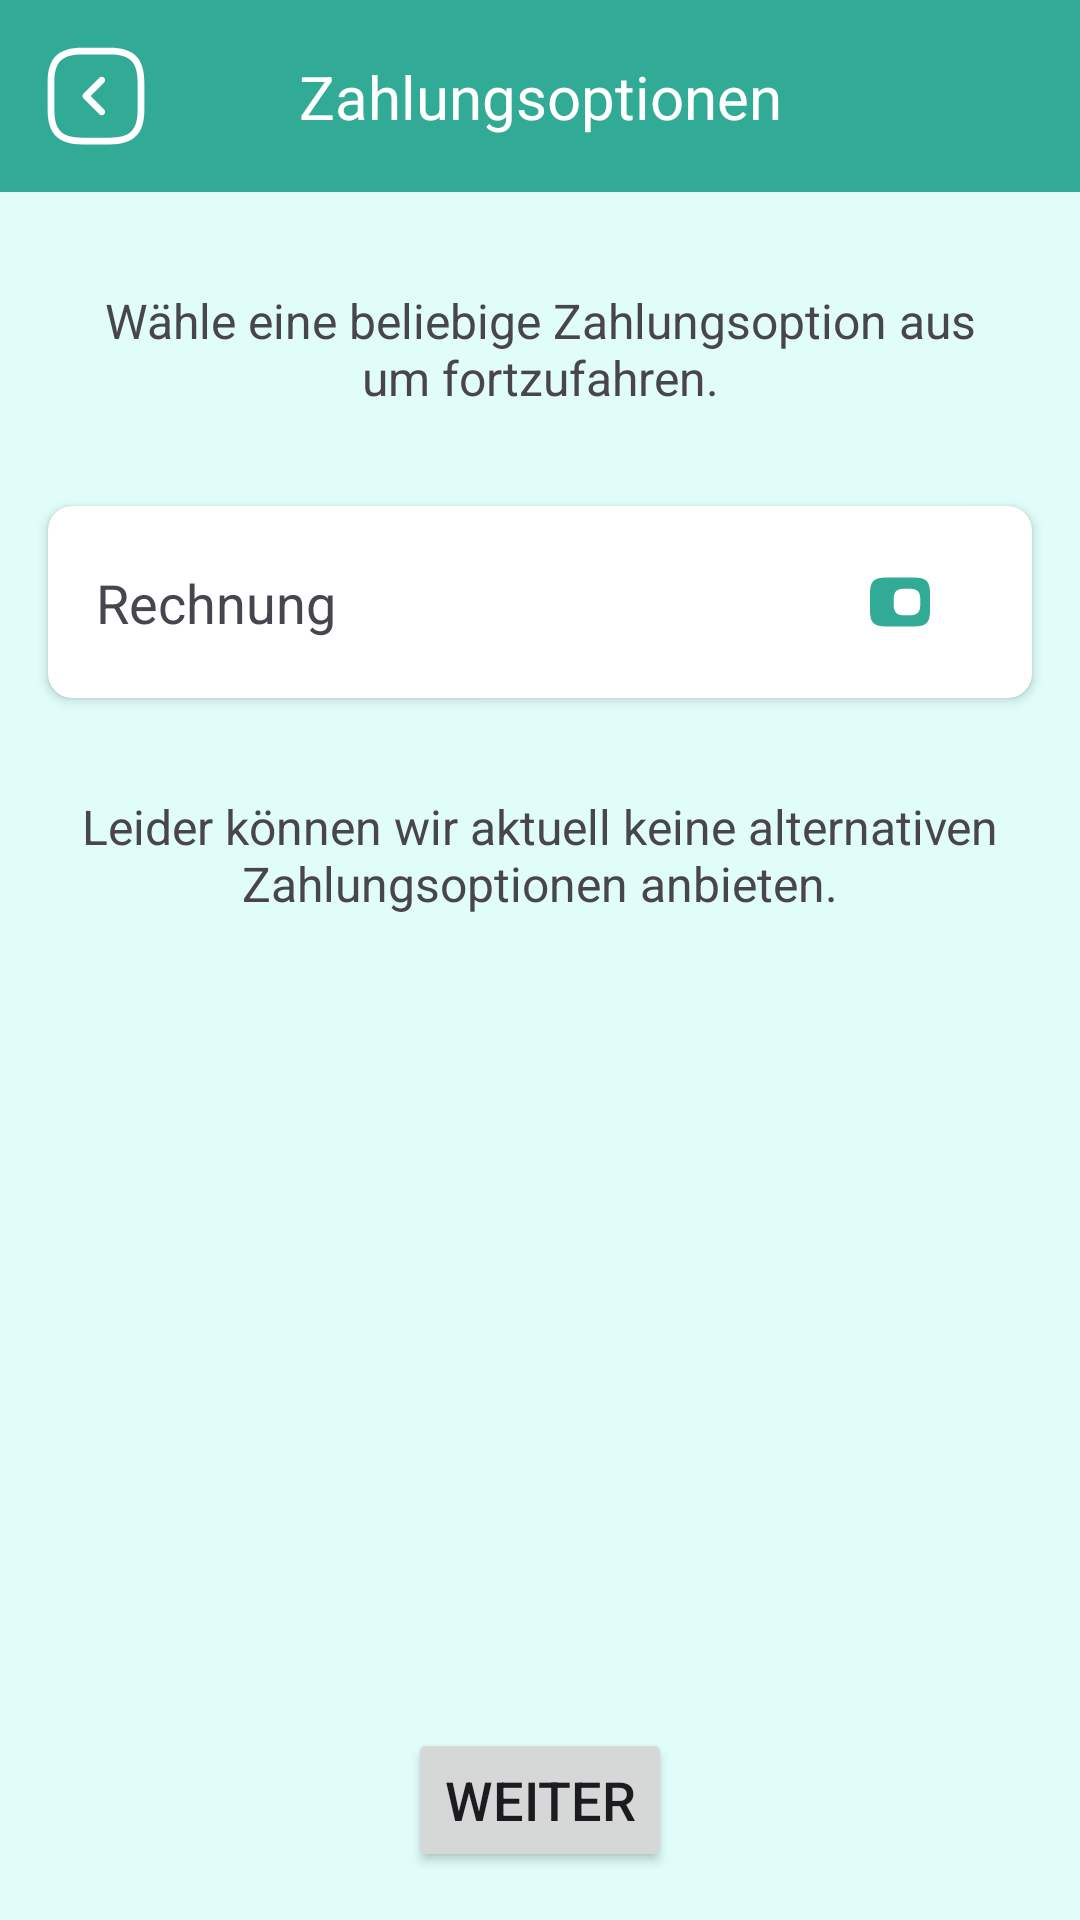

Icons on this 1080px×1920px Android screen, each with the point to tap as (x,y):
arrow square left: (96,96)
